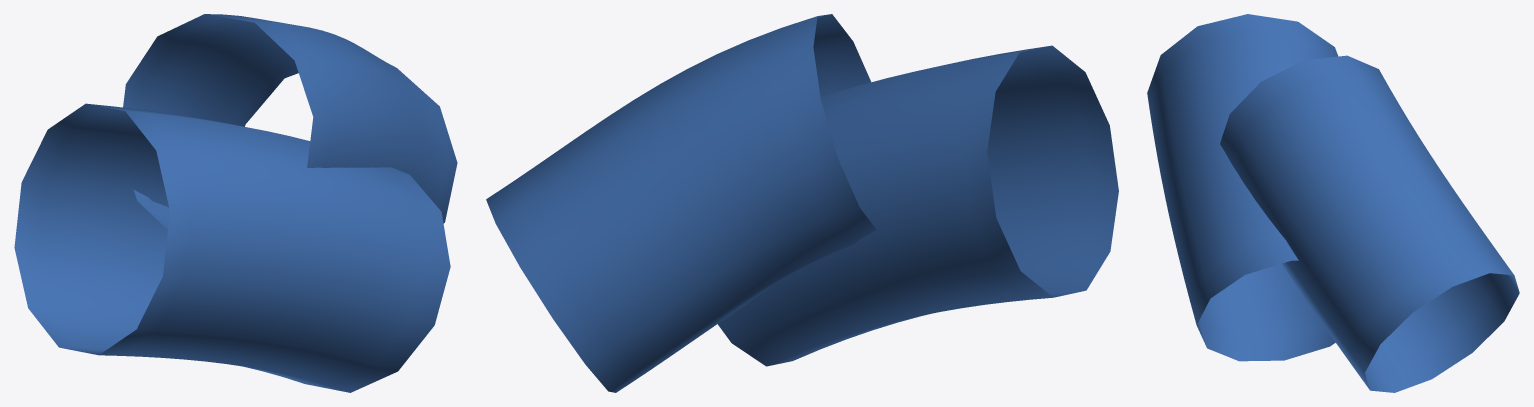
3 renders of one model, left to right at view 1: azimuth 30°, elevation 25°; view 2: azimuth 150°, elevation 25°; view 3: azimuth 270°, elevation 25°, orthographic. The views are drawn at different scales.
Visible parts, largest first — view 1: 左肺舌静脉; view 2: 左肺舌静脉; view 3: 左肺舌静脉.
Boxes of the visible parts, left/top/right/bottom form: 左肺舌静脉: left=14, top=14, right=457, bottom=392; 左肺舌静脉: left=486, top=14, right=1118, bottom=392; 左肺舌静脉: left=1147, top=14, right=1519, bottom=392.
Bounding box in the file's own units: 0.0211 × 0.015 × 0.0177.
